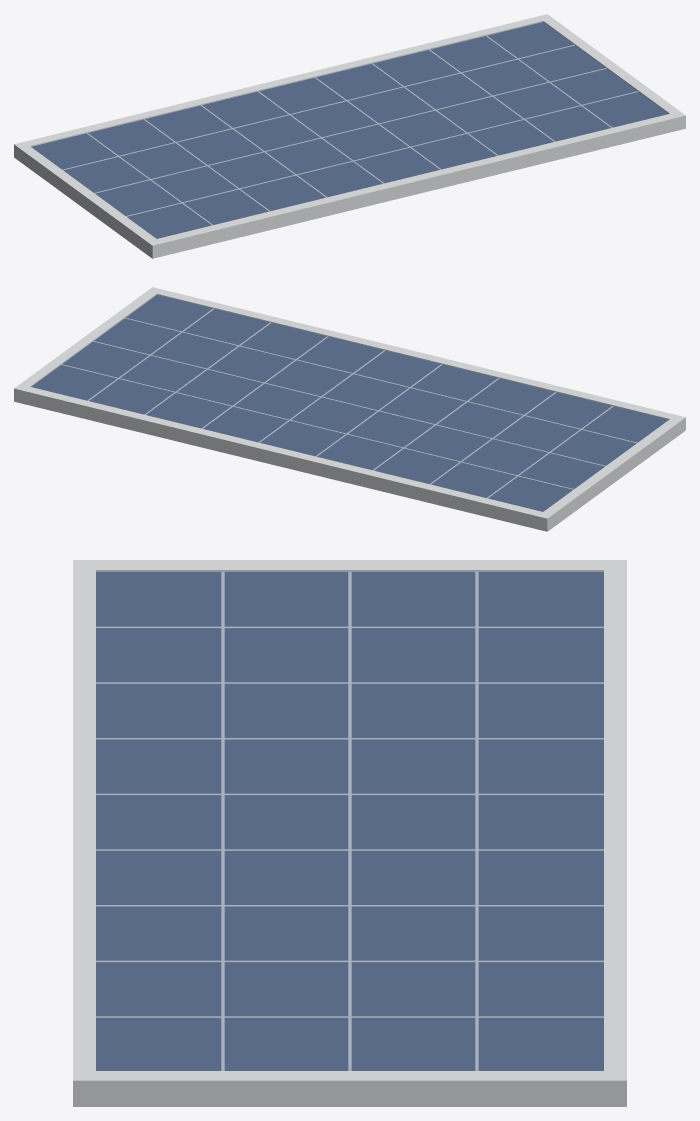
Rendered from solar.glb.
The picture shows the model from 3 angles, top to bottom: view 1: azimuth 30°, elevation 25°; view 2: azimuth 150°, elevation 25°; view 3: azimuth 270°, elevation 25°; orthographic projection. The views are drawn at different scales.
Bounding box in the file's own units: 1485 × 35 × 668.
